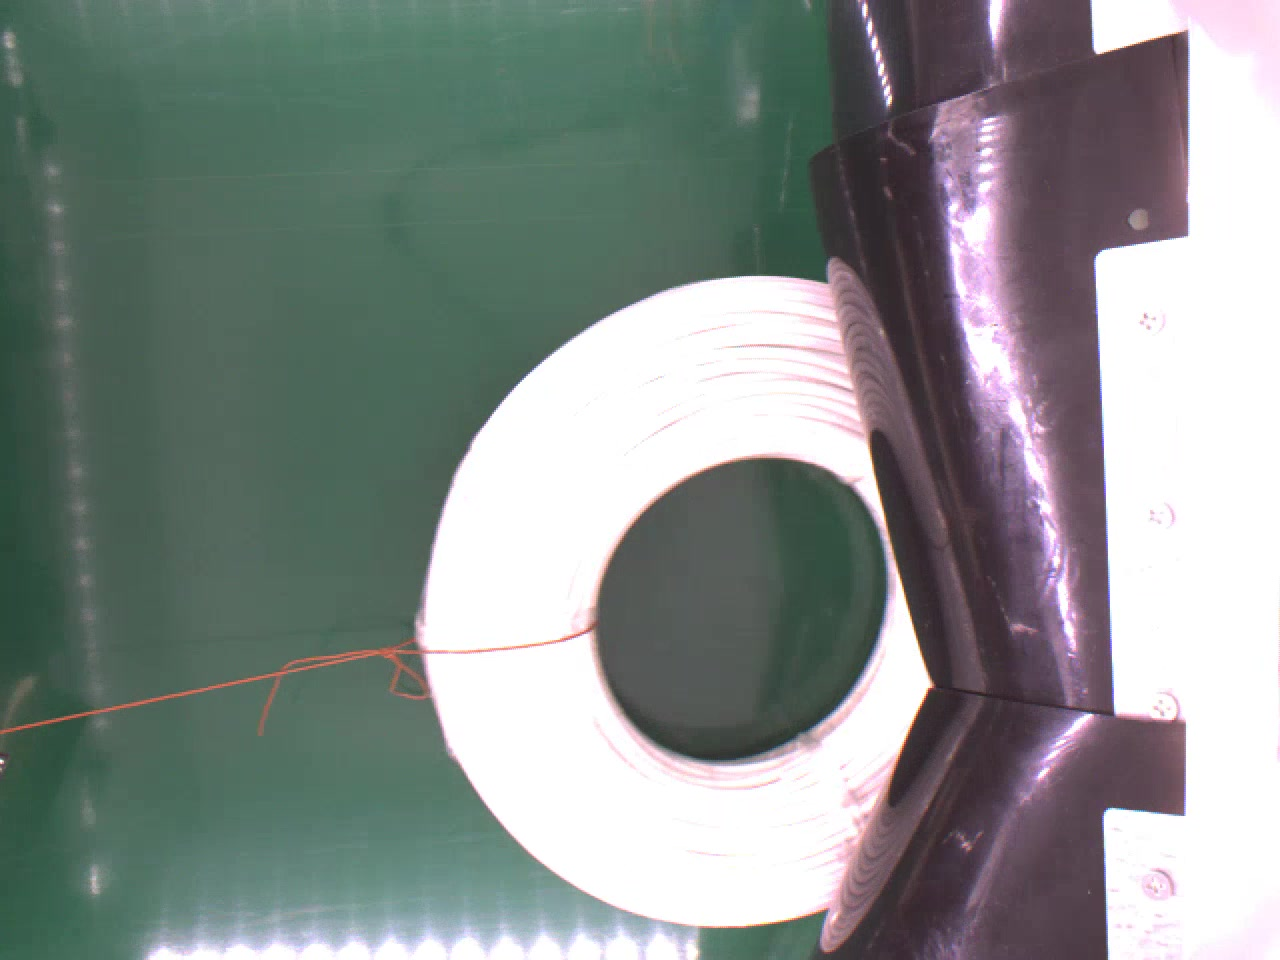white: (412, 272, 935, 933)
